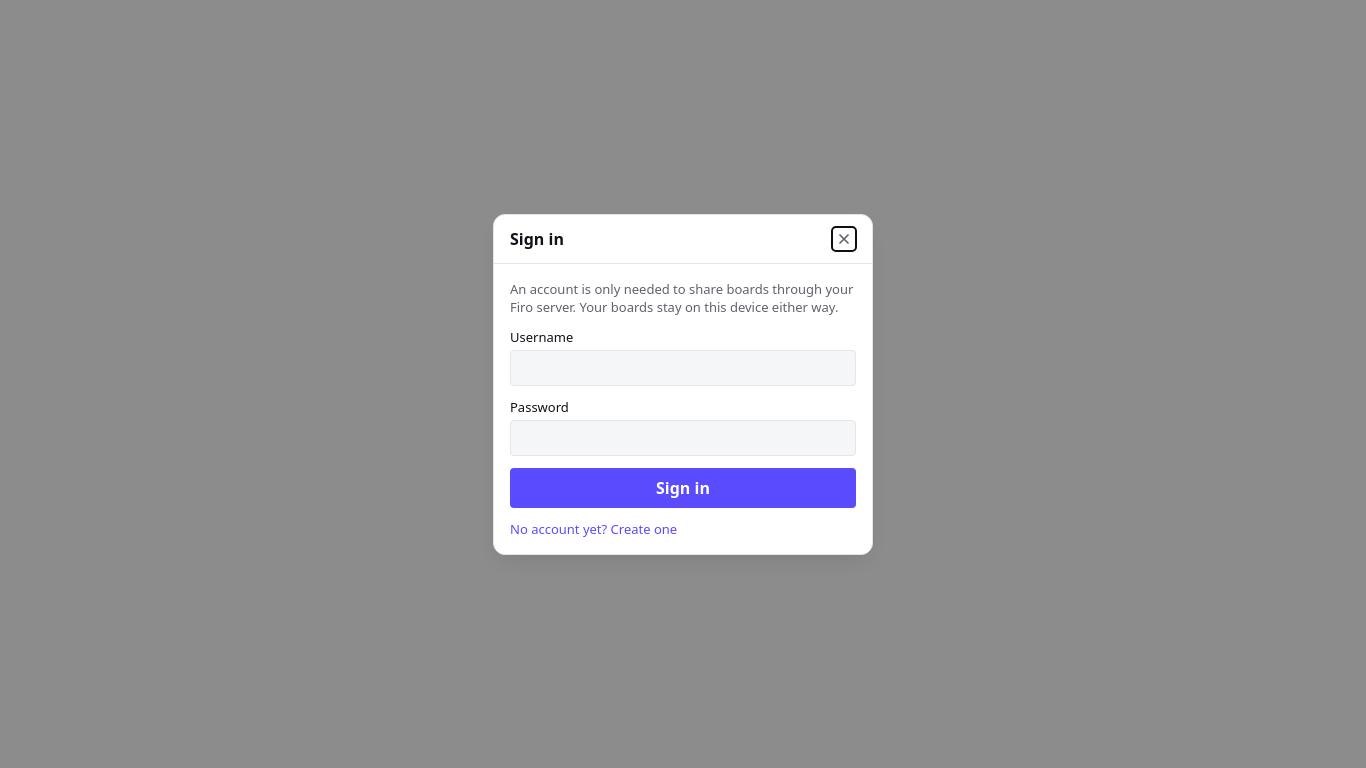
it: AuthDialog › shows the server error, stays open, and lets the user retry
In the field with test id "auth-username": x=683, y=368 [510,350,856,386], type "ann"
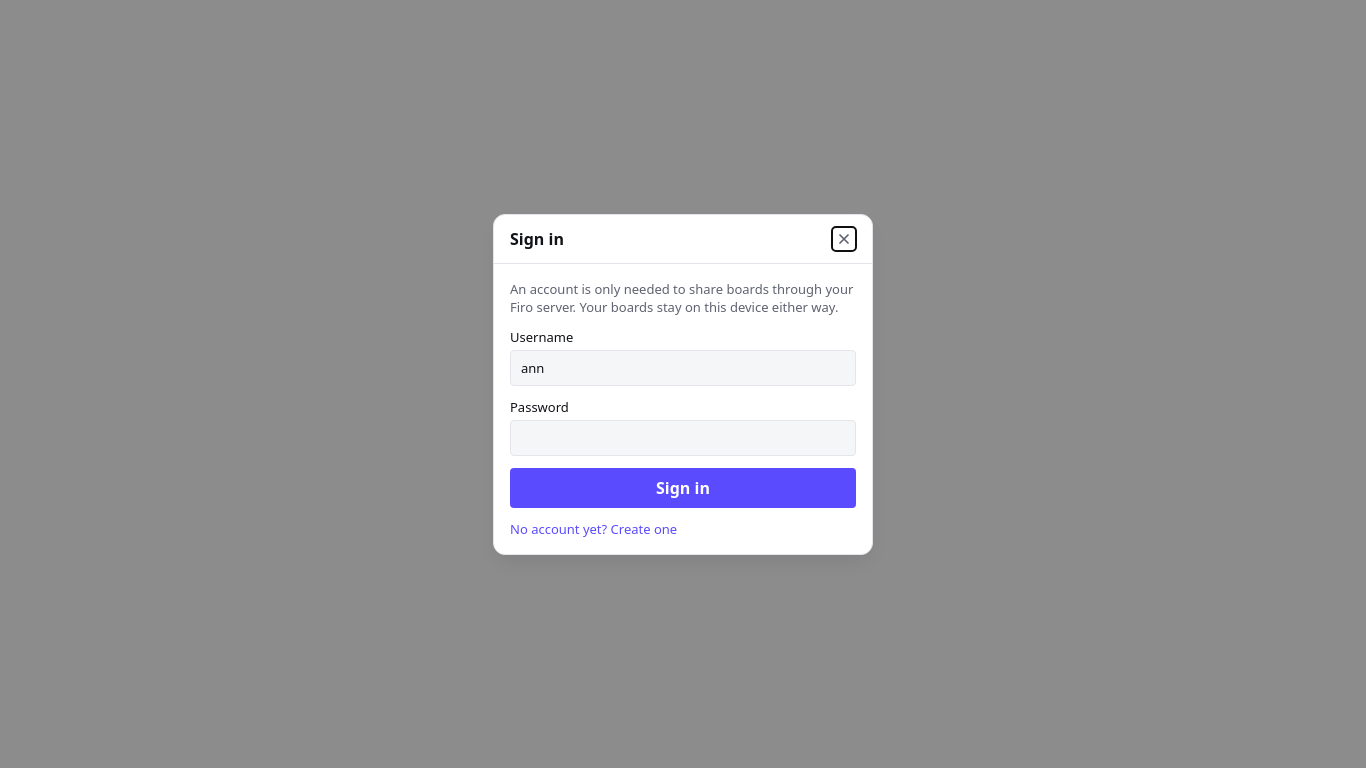
In the password field with test id "auth-password": x=683, y=438 [510,420,856,456], type "wrong-pw"
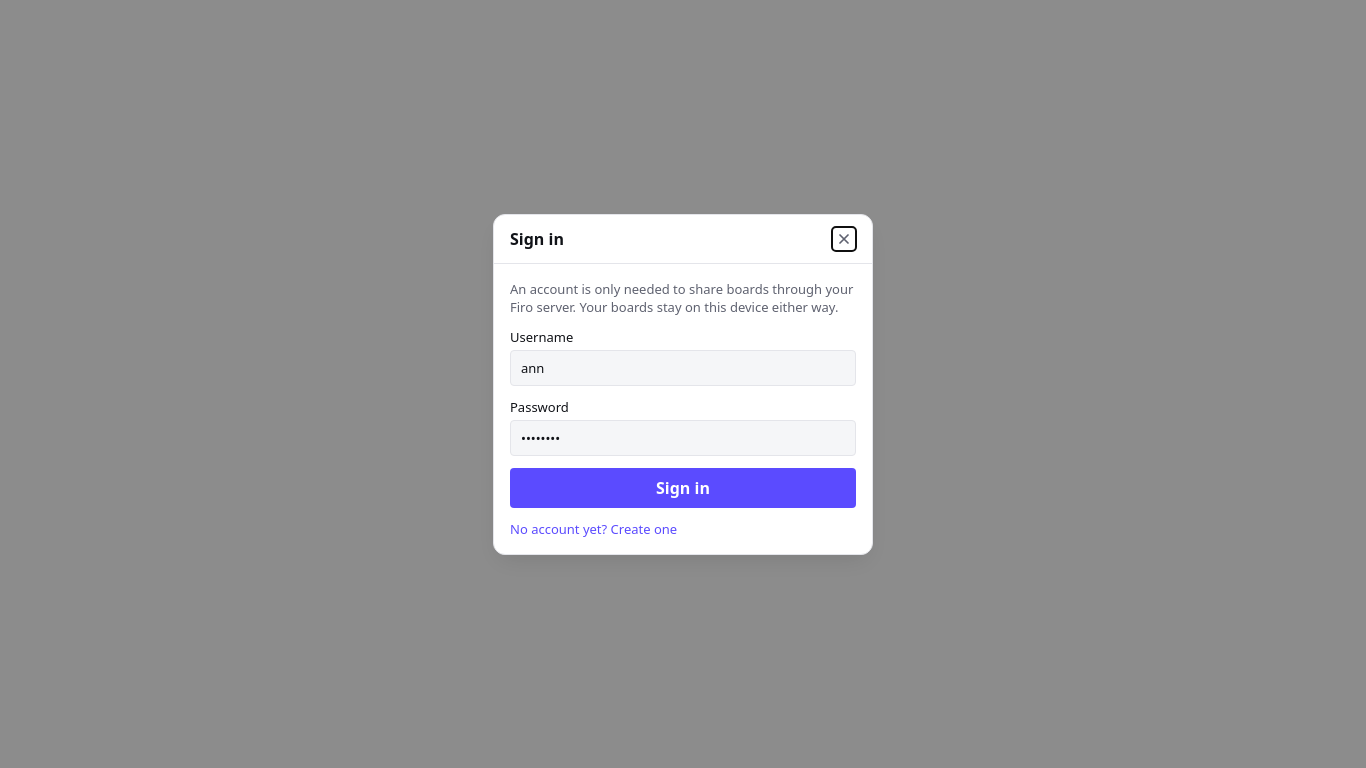
Click the button with test id "auth-submit": x=683, y=488 [510,468,856,508]
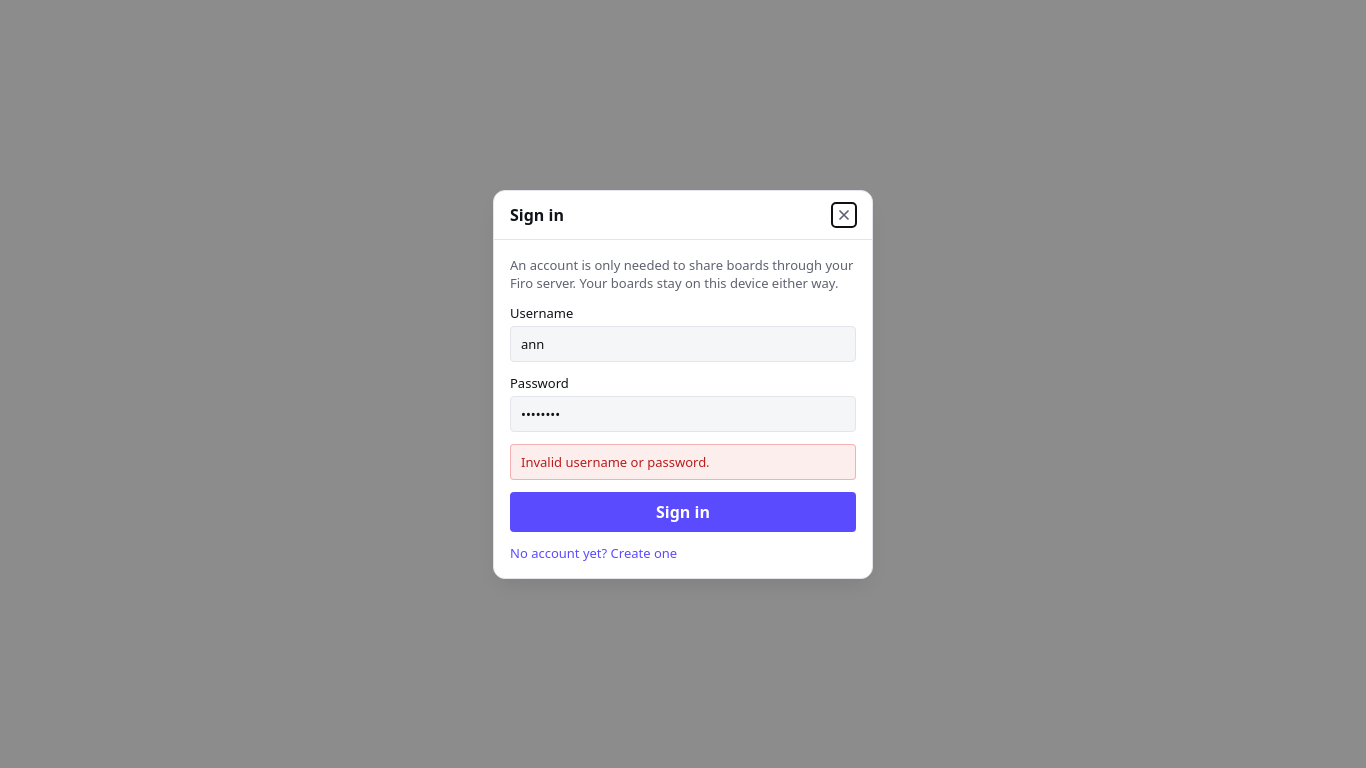
Expected: the button with test id "auth-submit" is enabled, [510,492,856,532]
Now the message reads "Invalid username or password.", box [521,452,710,470]
